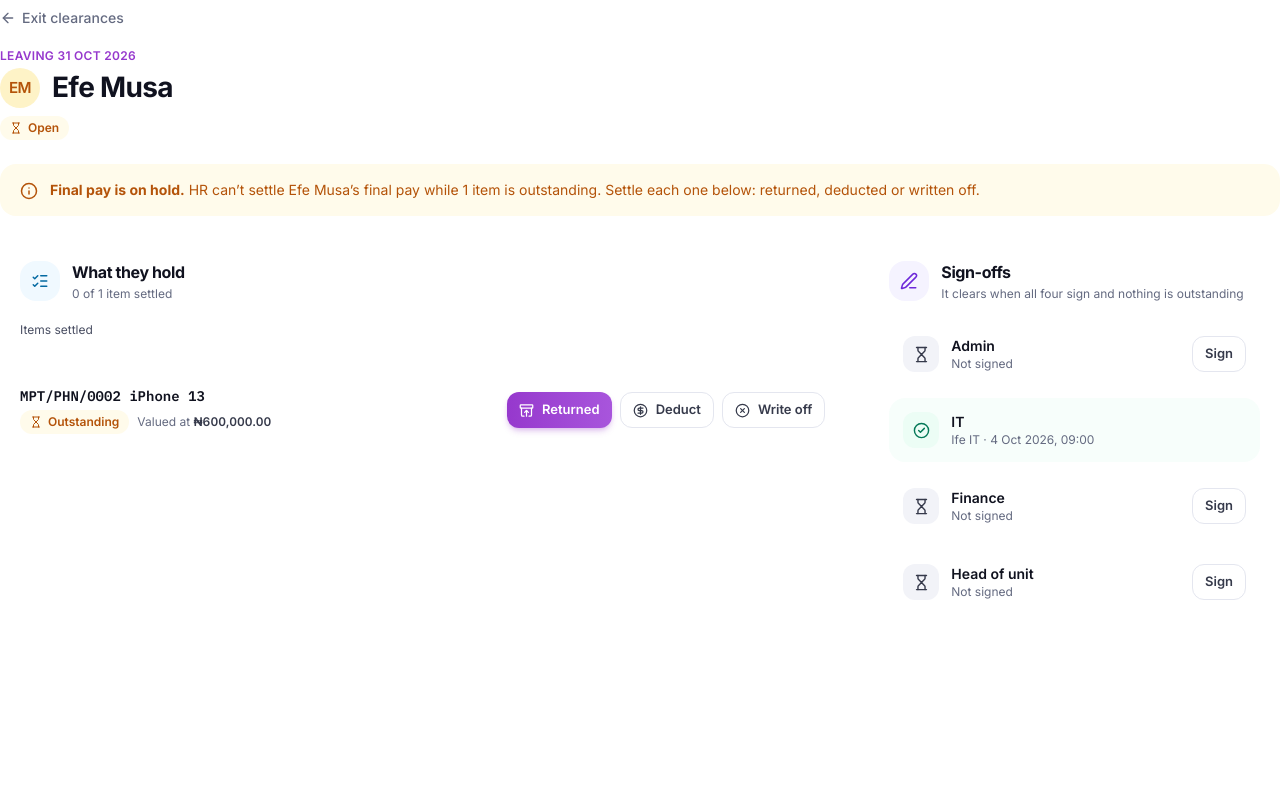
it: ExitClearanceDetail › says final pay waits, and needs a value and a reason to deduct
Check: the text "Final pay is on hold." is shown, box [50,181,185,198]
Click the button "Deduct" at point(667, 410), box [620,392,714,428]
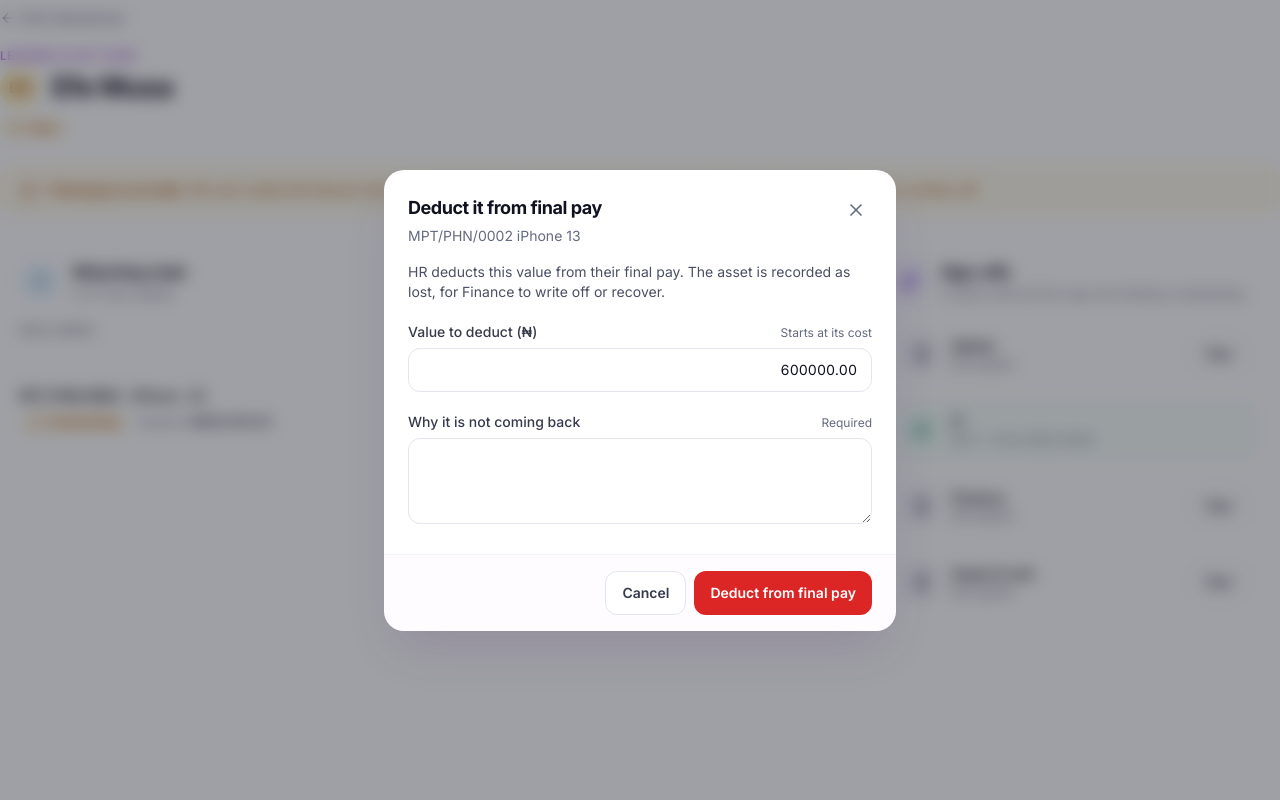
Clear the field labelled "Value to deduct (₦)" at point(640, 370), box [408,348,872,392]
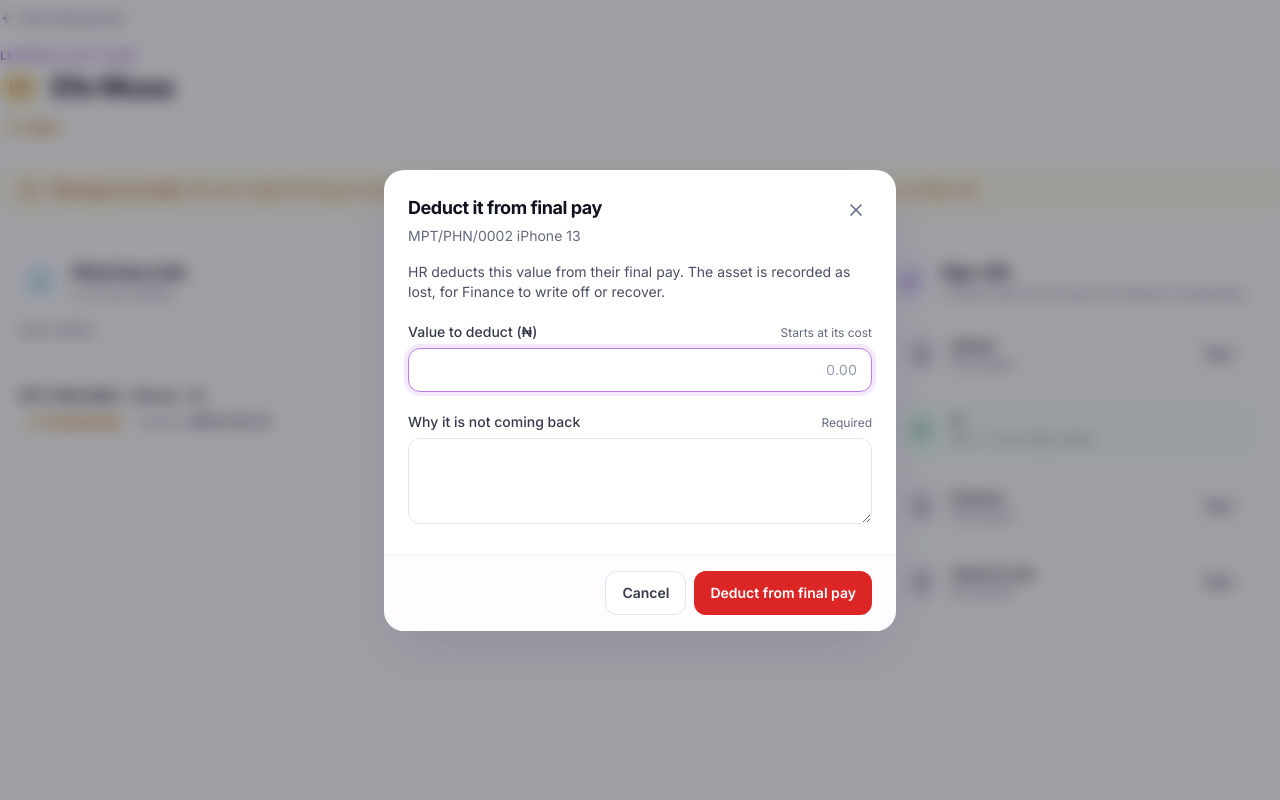
Click the button "Deduct from final pay" at point(783, 592), box [694,570,872,614]
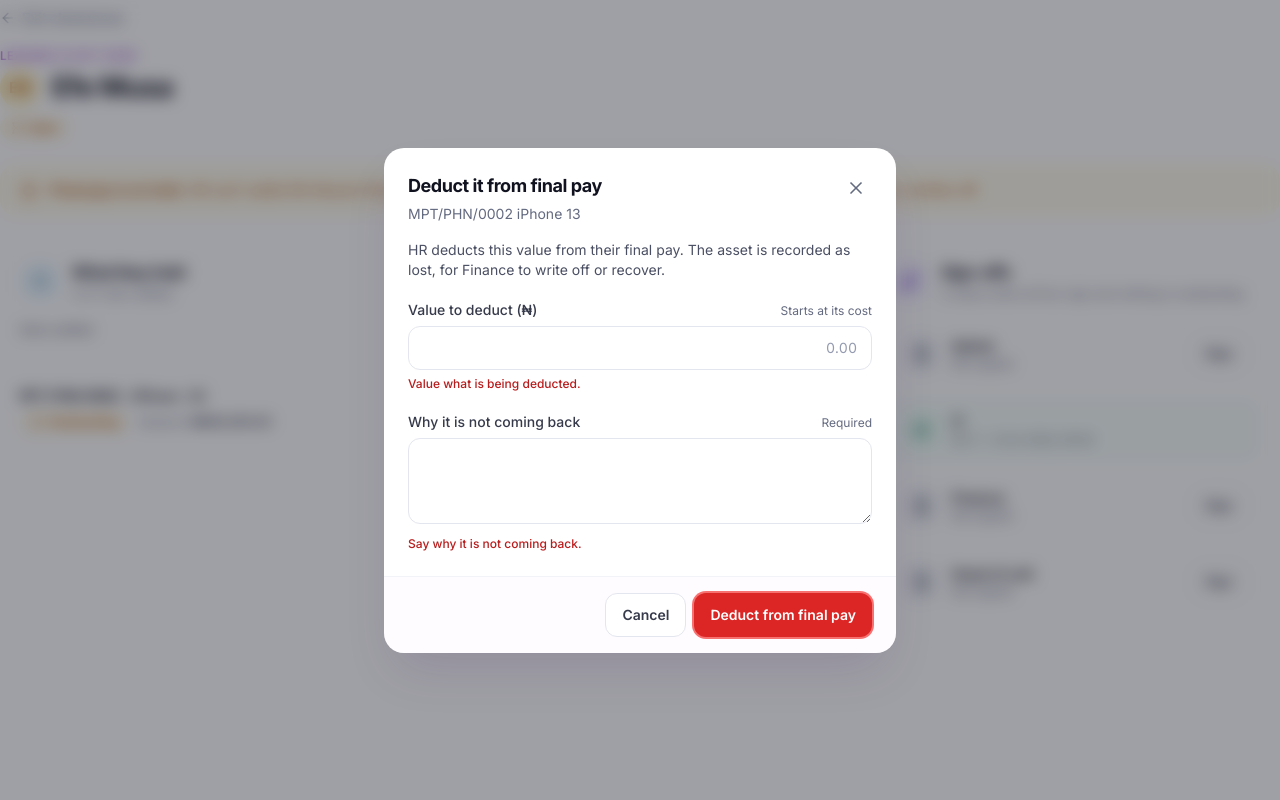
Check: the text "Value what is being deducted." is shown, box [408,376,581,390]
Check: the text "Say why it is not coming back." is shown, box [408,536,582,550]
Type "450000" into the field labelled "Value to deduct (₦)" at point(640, 348), box [408,326,872,370]
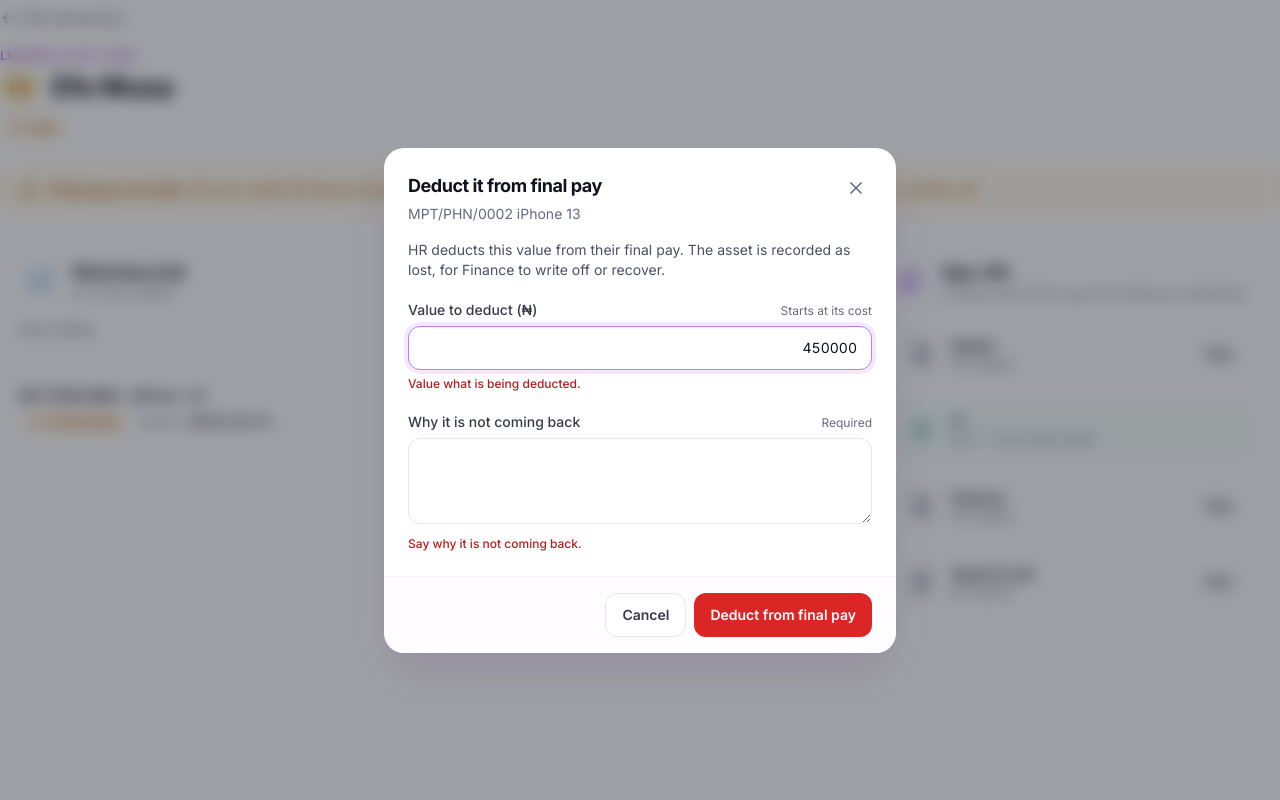
Type "Lost on a trip" into the text box labelled "Why it is not coming back" at point(640, 480), box [408,438,872,524]
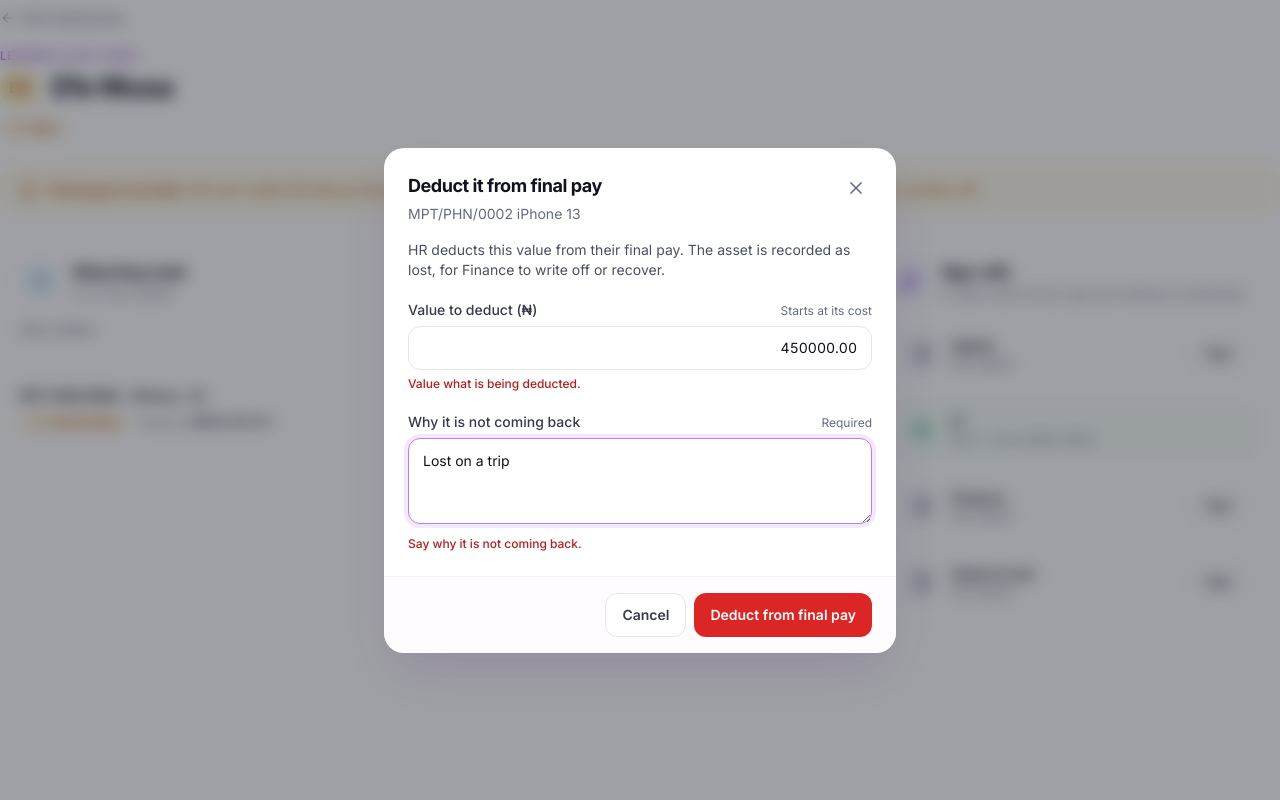
Click the button "Deduct from final pay" at point(783, 614), box [694,592,872,636]
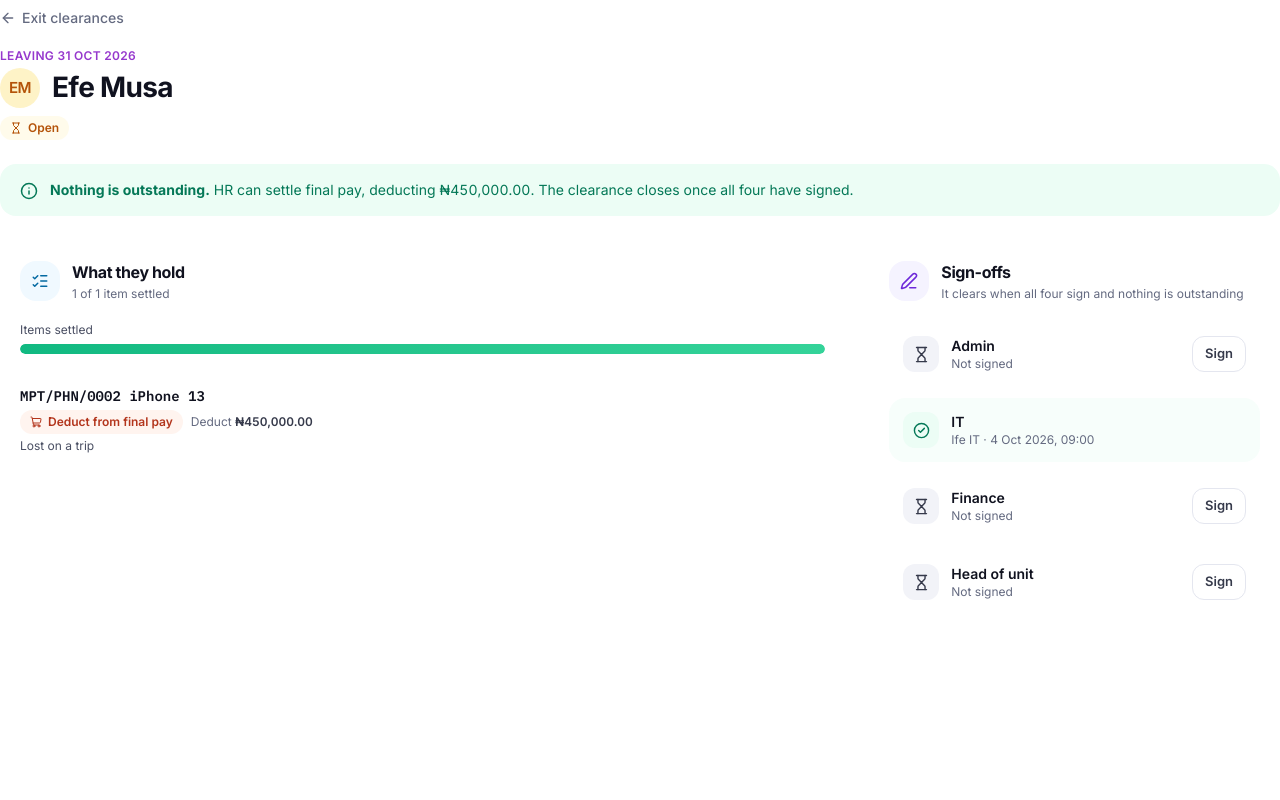
Check: the text "Nothing is outstanding." is shown, box [50,181,210,198]
